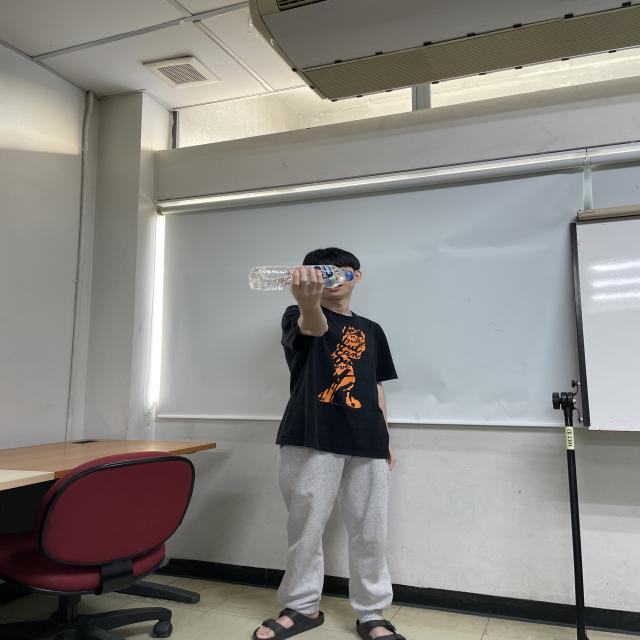bottle: (248, 264, 360, 290)
